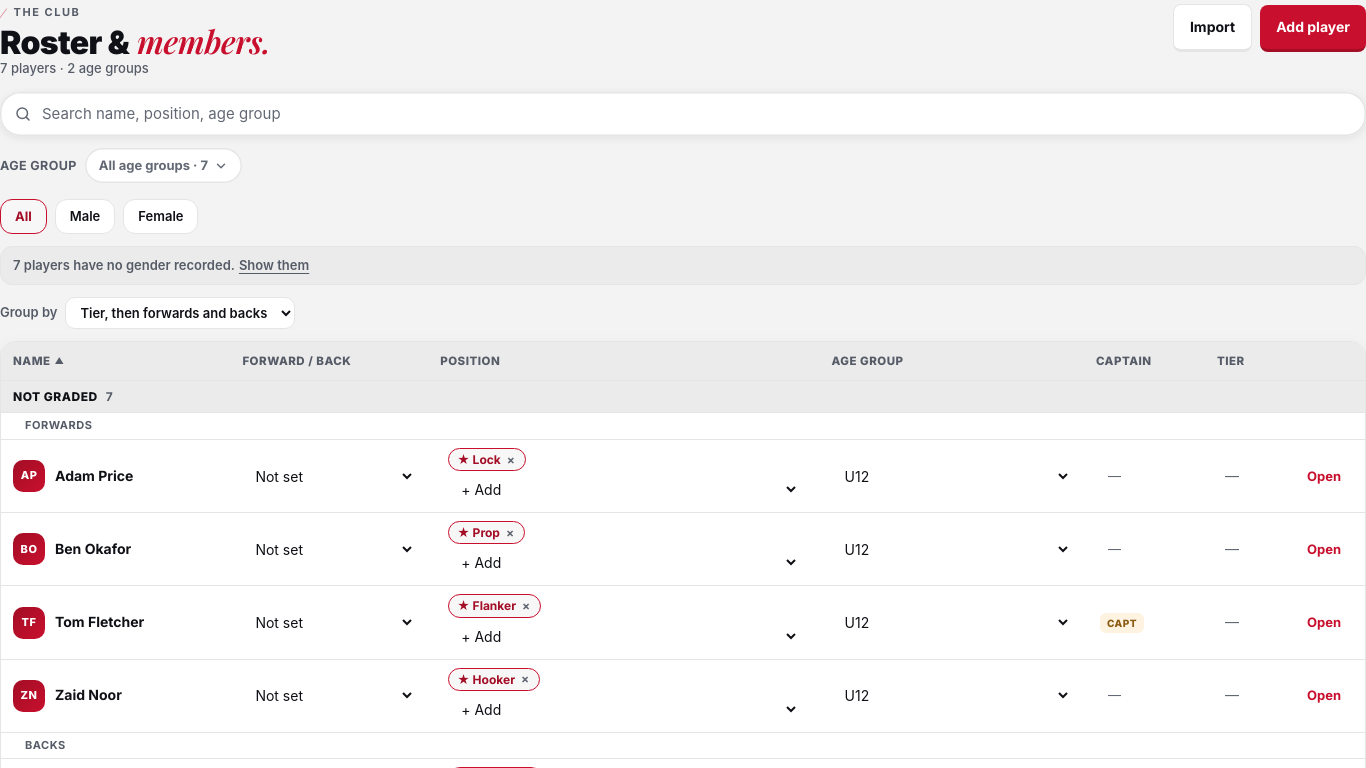
Roster — search › shows a no-matches message rather than the empty roster message
Expected: the text "Tom Fletcher" is shown, [55,611,144,634]
Type "zzz" into the search field. click: (697, 114)
box: [42,102,1352,126]
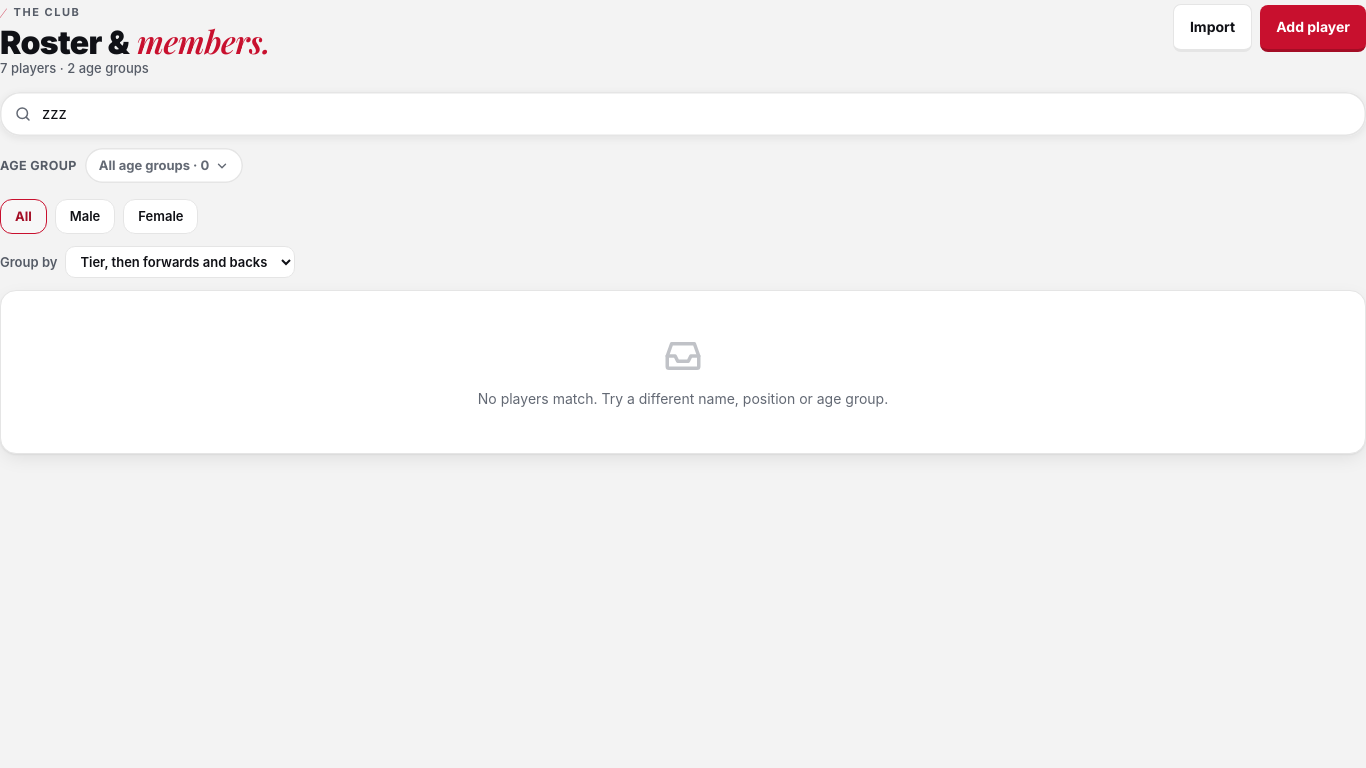
Expected: the text "No players match" is shown, [478,390,888,407]
